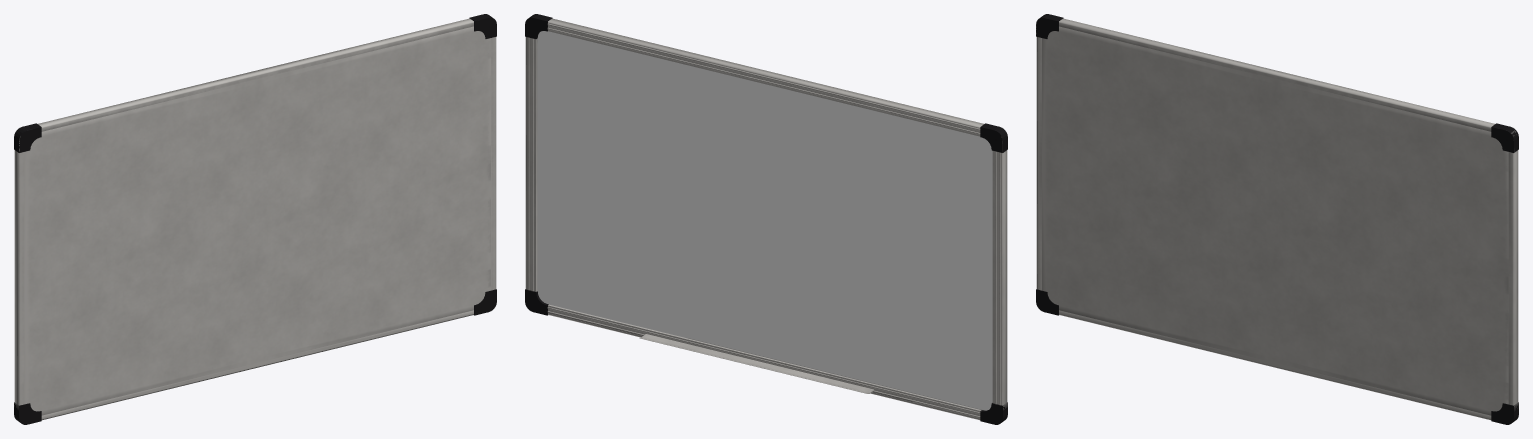
The model's file is Whiteboard__0.fbx.
The picture shows the model from 3 angles, left to right: view 1: azimuth 30°, elevation 25°; view 2: azimuth 150°, elevation 25°; view 3: azimuth 330°, elevation 25°; orthographic projection.
Parts seen in each view (by area): view 1: Whiteboard__0_Baked; view 2: Whiteboard__0_Baked; view 3: Whiteboard__0_Baked.
Boxes of the visible parts, bbox=[...] form: Whiteboard__0_Baked: bbox=[14, 14, 496, 424]; Whiteboard__0_Baked: bbox=[525, 14, 1007, 424]; Whiteboard__0_Baked: bbox=[1036, 14, 1518, 424].
Size of the model in its own units: 89.89 by 52.89 by 3.64.
